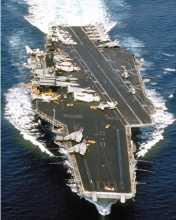warship: (29, 5, 158, 200)
